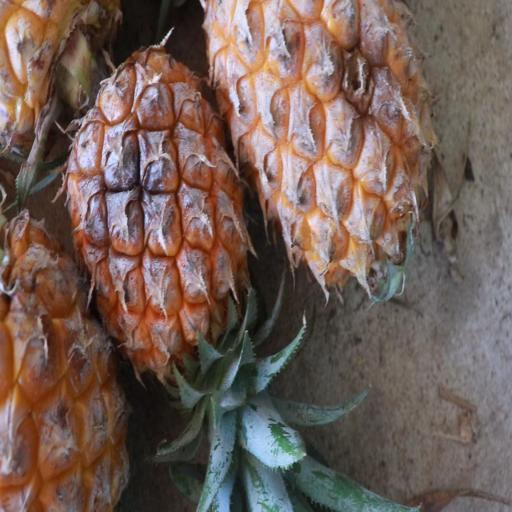Pineapple - v8 v1: (60, 37, 250, 451), (203, 0, 443, 309), (0, 197, 136, 512)
